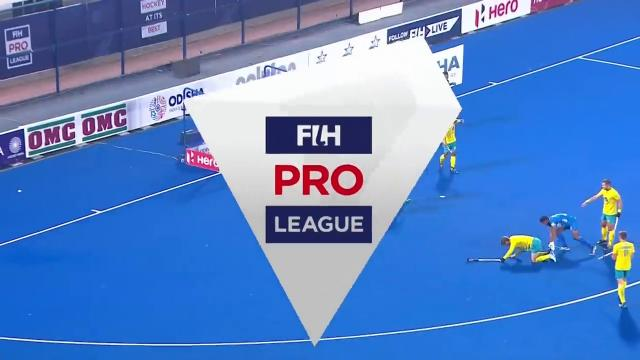ball: (14, 187, 24, 195)
